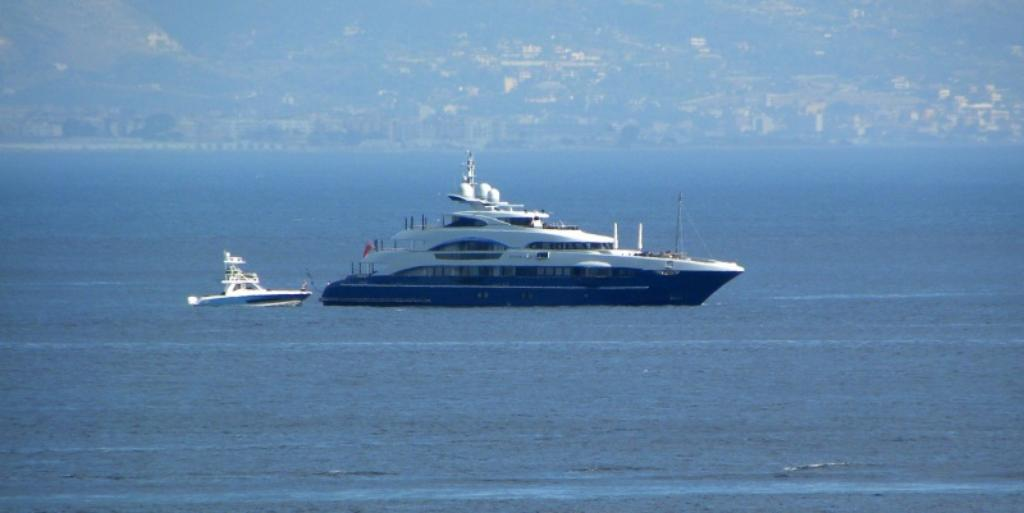PassengerShip: (320, 173, 746, 308)
